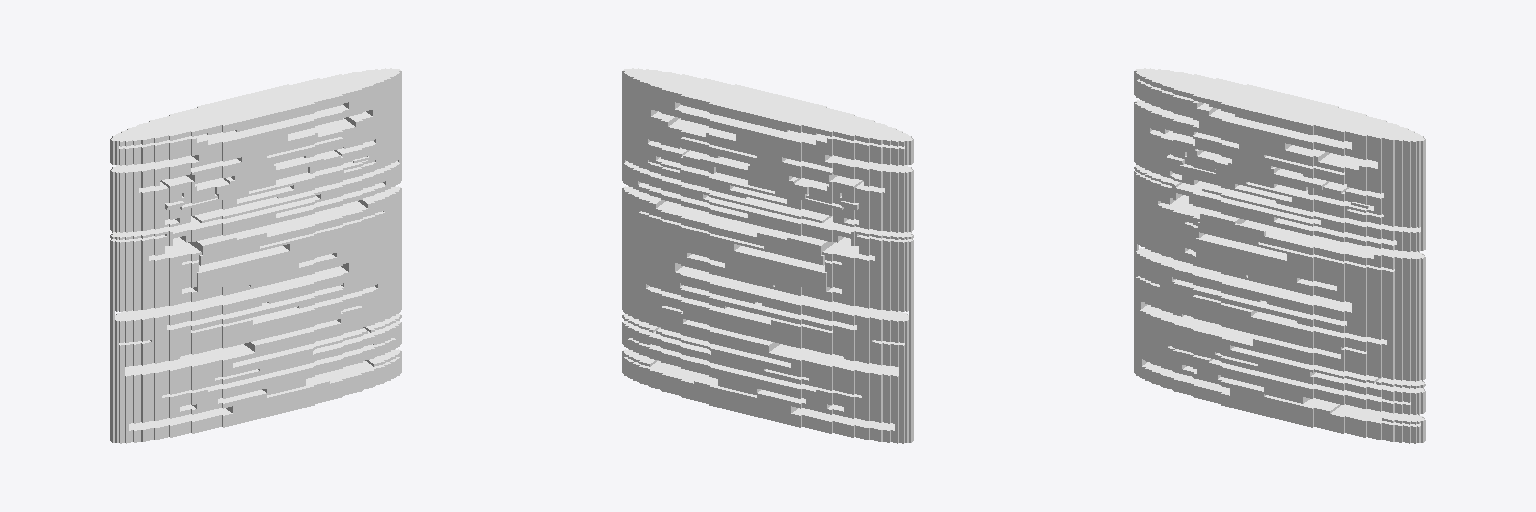
File: platformtype1.obj
The picture shows the model from 3 angles: view 1: azimuth 30°, elevation 25°; view 2: azimuth 150°, elevation 25°; view 3: azimuth 330°, elevation 25°; orthographic projection.
Visible parts, largest first — view 1: object 1; view 2: object 1; view 3: object 1.
Boxes of the visible parts, x1=… form: object 1: x1=110, y1=68, x2=401, y2=443; object 1: x1=622, y1=68, x2=913, y2=443; object 1: x1=1134, y1=68, x2=1425, y2=443.
Bounding box in the file's own units: 12.6 × 12.6 × 2.